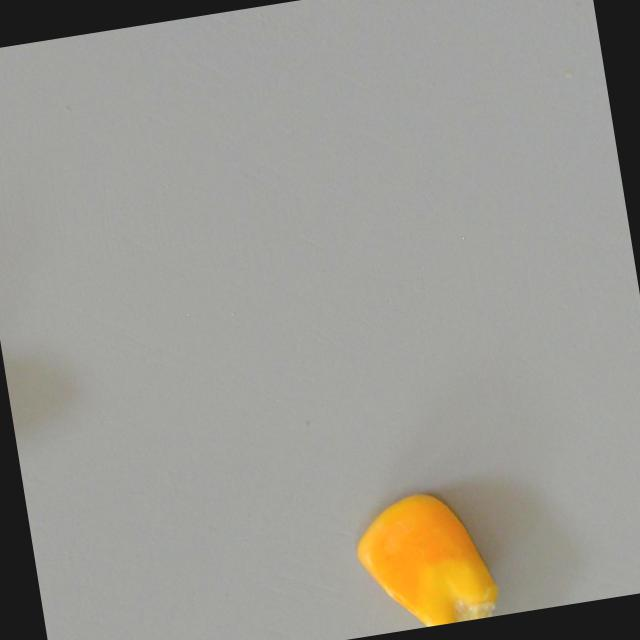entero: (346, 480, 501, 637)
